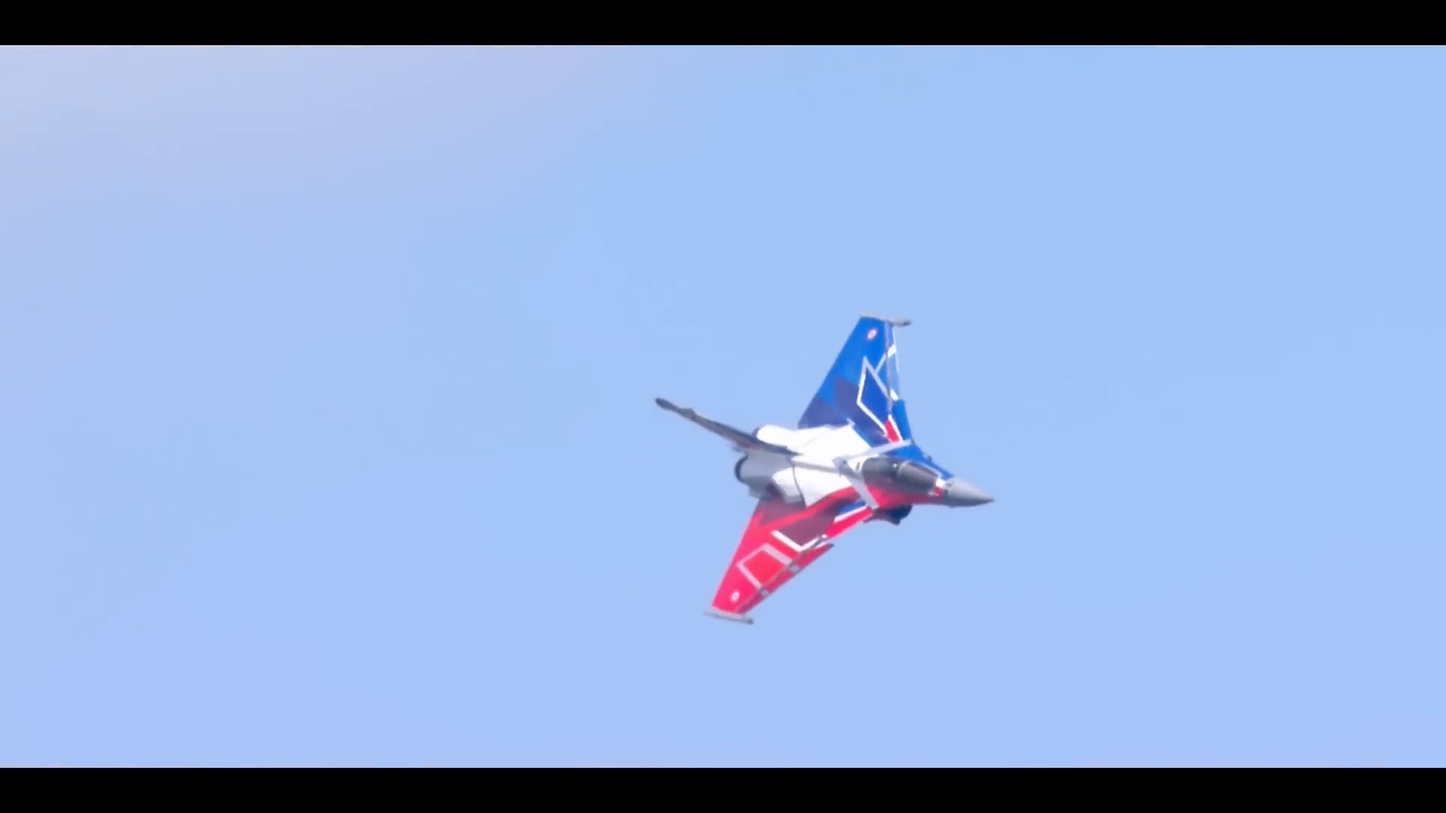Rafale: (649, 308, 996, 634)
